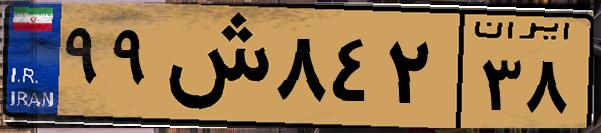2: (385, 28, 445, 110)
3: (475, 38, 525, 113)
4: (330, 28, 385, 110)
8: (270, 28, 330, 110), (525, 38, 570, 115)
9: (57, 26, 110, 100), (110, 28, 158, 98)
ش: (158, 12, 270, 120)
